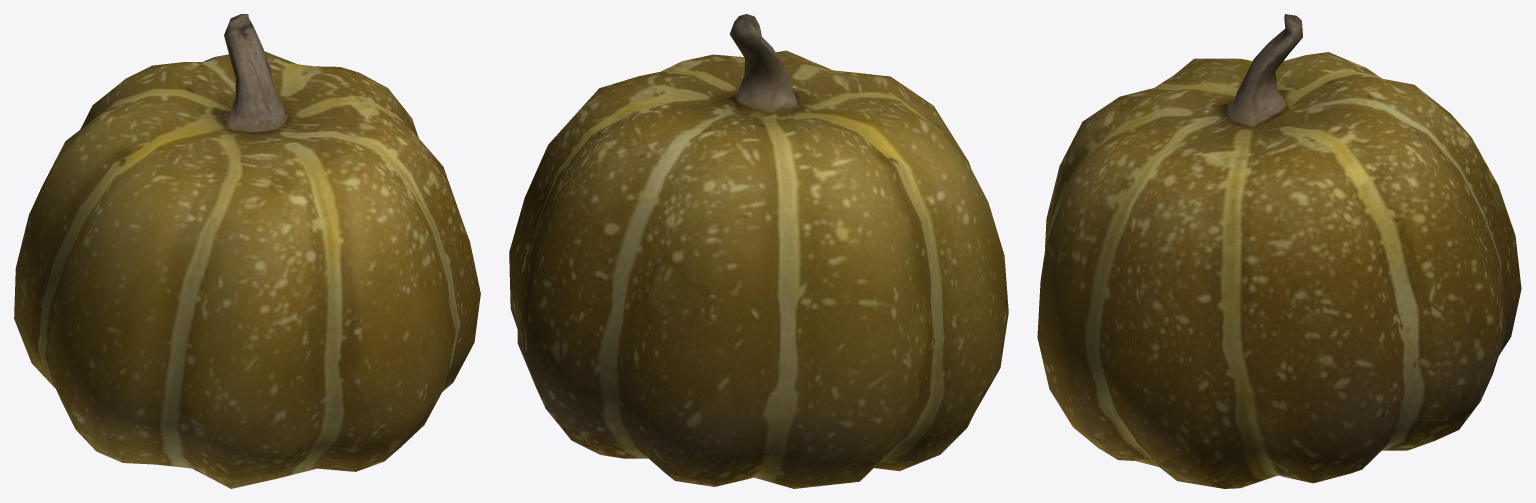
The model's file is A101_Pumpkin_low.fbx.
The picture shows the model from 3 angles, left to right: view 1: azimuth 30°, elevation 25°; view 2: azimuth 150°, elevation 25°; view 3: azimuth 270°, elevation 25°; orthographic projection. The views are drawn at different scales.
Visible parts, largest first — view 1: A101_Pumpkin_low; view 2: A101_Pumpkin_low; view 3: A101_Pumpkin_low.
Part boxes in pixels (left/top/right/bottom): A101_Pumpkin_low: left=14, top=14, right=480, bottom=488; A101_Pumpkin_low: left=509, top=14, right=1008, bottom=488; A101_Pumpkin_low: left=1037, top=14, right=1521, bottom=488.
Size of the model in its own units: 29.88 by 29.91 by 29.13.
1 material, 1 textured.
